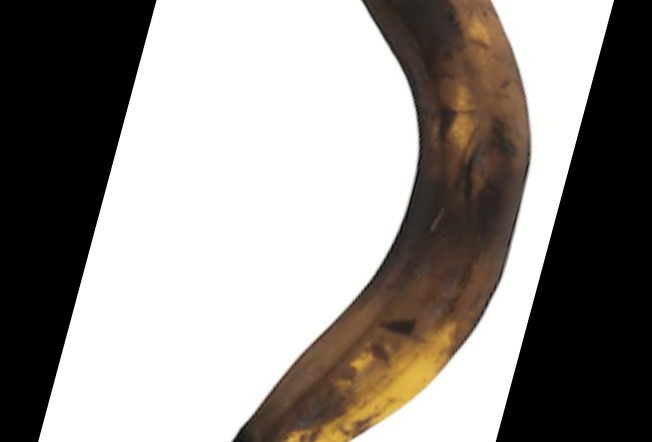rotten_banana: (224, 3, 533, 442)
